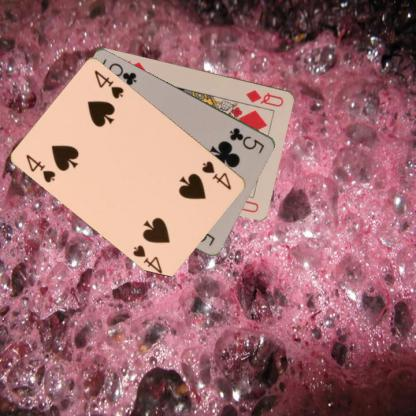4s: (199, 158, 233, 191), (23, 152, 57, 184)
5c: (227, 125, 266, 155)
Qd: (243, 87, 285, 108)
